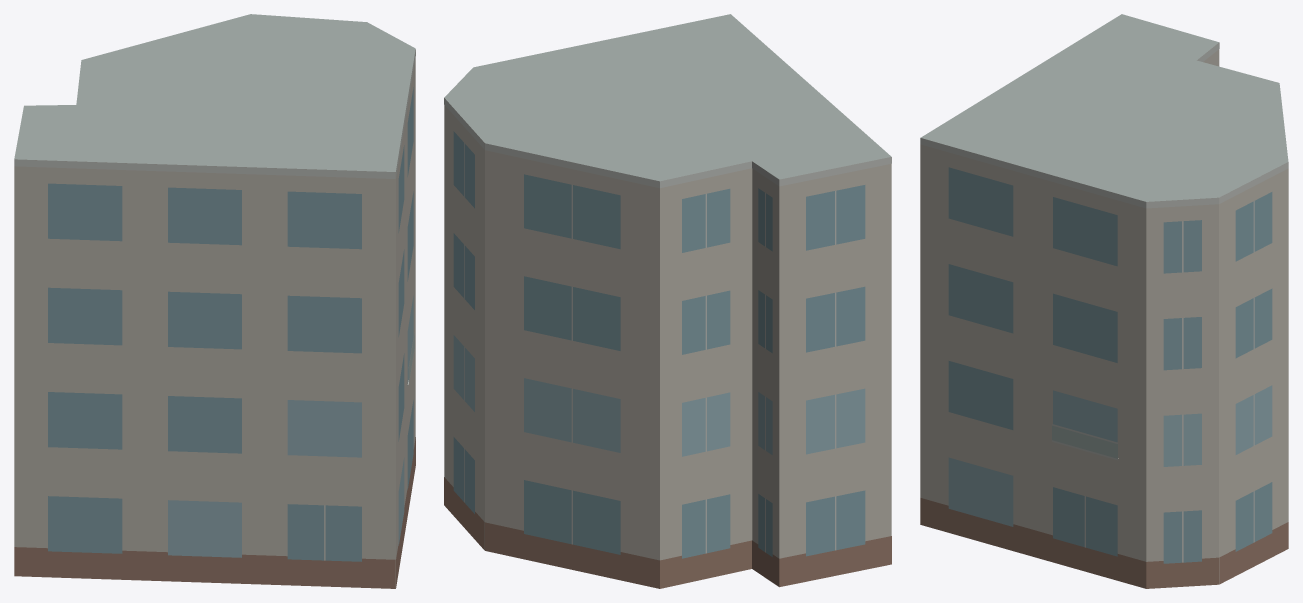
Rendered from survey-upis-32960363.glb.
The picture shows the model from 3 angles, left to right: view 1: azimuth 30°, elevation 25°; view 2: azimuth 150°, elevation 25°; view 3: azimuth 270°, elevation 25°; orthographic projection. The views are drawn at different scales.
Visible parts, largest first — view 1: survey-upis-32960363.tmp; view 2: survey-upis-32960363.tmp; view 3: survey-upis-32960363.tmp.
Part boxes in pixels (box(x1,y1,x2,y2)): survey-upis-32960363.tmp: box(14, 14, 415, 588); survey-upis-32960363.tmp: box(444, 14, 891, 588); survey-upis-32960363.tmp: box(920, 14, 1288, 588).
Bounding box in the file's own units: 15.01 × 14.4 × 12.42.
